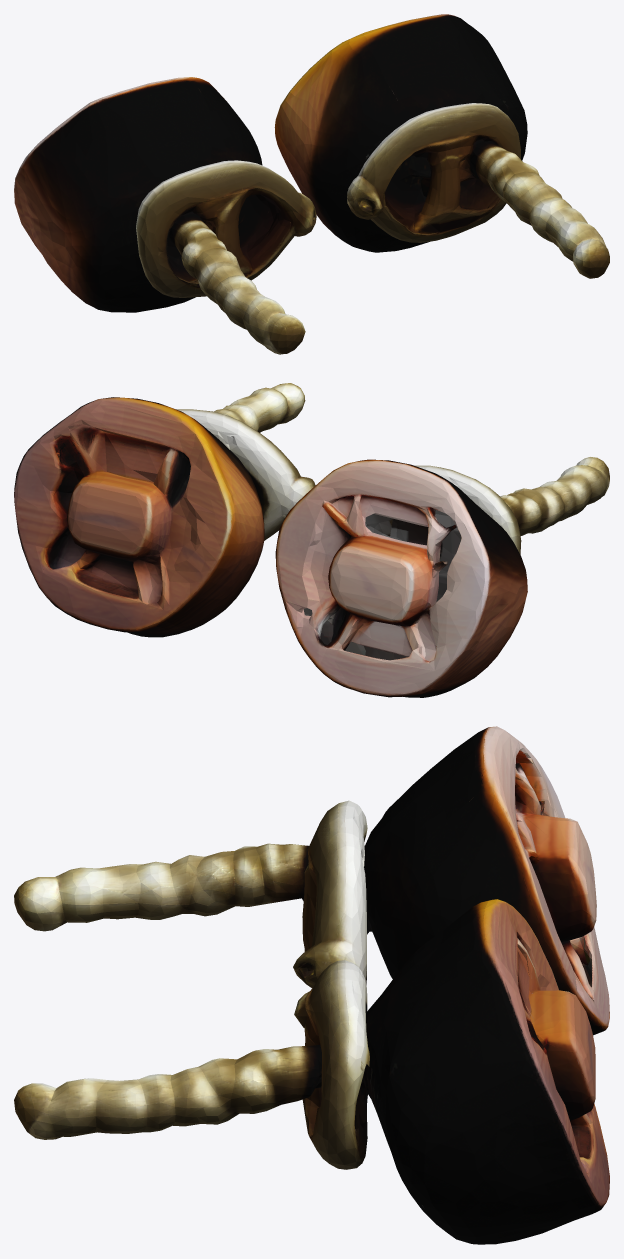
Rendered from wooden-cufflinks-futuristic.jpeg.glb.
3 views of the same model, one above another, from view 1: azimuth 30°, elevation 25°; view 2: azimuth 150°, elevation 25°; view 3: azimuth 270°, elevation 25° (orthographic). The views are drawn at different scales.
Parts seen in each view (by area): view 1: world; view 2: world; view 3: world.
Part boxes in pixels (x1=…): world: x1=14, y1=14, x2=609, y2=354; world: x1=14, y1=383, x2=609, y2=697; world: x1=14, y1=726, x2=609, y2=1244.
Size of the model in its own units: 0.9993 by 0.443 by 0.7959.
1 material, 1 textured.
